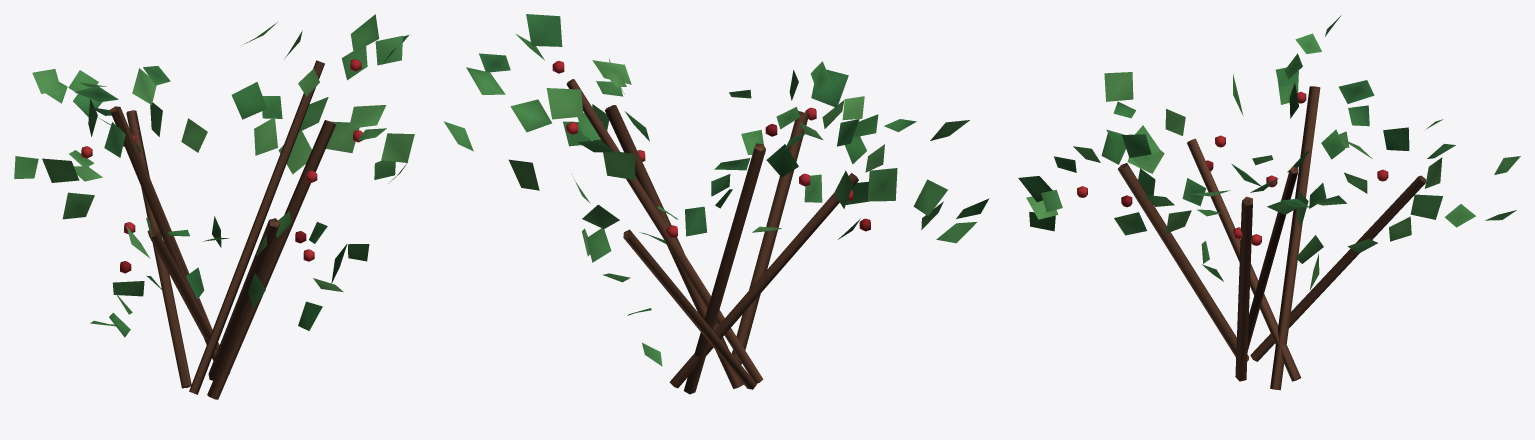
File: small-lod1.glb
3 views of the same model, side by side, from view 1: azimuth 30°, elevation 25°; view 2: azimuth 150°, elevation 25°; view 3: azimuth 270°, elevation 25° (orthographic). The views are drawn at different scales.
Visible parts, largest first — view 1: redberry-individual-ovate-leaves, redberry-buried-stems-ground-blend-and-fruit; view 2: redberry-individual-ovate-leaves, redberry-buried-stems-ground-blend-and-fruit; view 3: redberry-individual-ovate-leaves, redberry-buried-stems-ground-blend-and-fruit.
Boxes of the visible parts, left/top/right/bottom form: redberry-individual-ovate-leaves: left=14, top=14, right=414, bottom=337; redberry-buried-stems-ground-blend-and-fruit: left=81, top=59, right=363, bottom=399; redberry-individual-ovate-leaves: left=444, top=14, right=989, bottom=366; redberry-buried-stems-ground-blend-and-fruit: left=552, top=61, right=870, bottom=394; redberry-individual-ovate-leaves: left=1018, top=15, right=1520, bottom=290; redberry-buried-stems-ground-blend-and-fruit: left=1077, top=86, right=1425, bottom=390.
Bounding box in the file's own units: 1.4 × 1.08 × 1.6.
